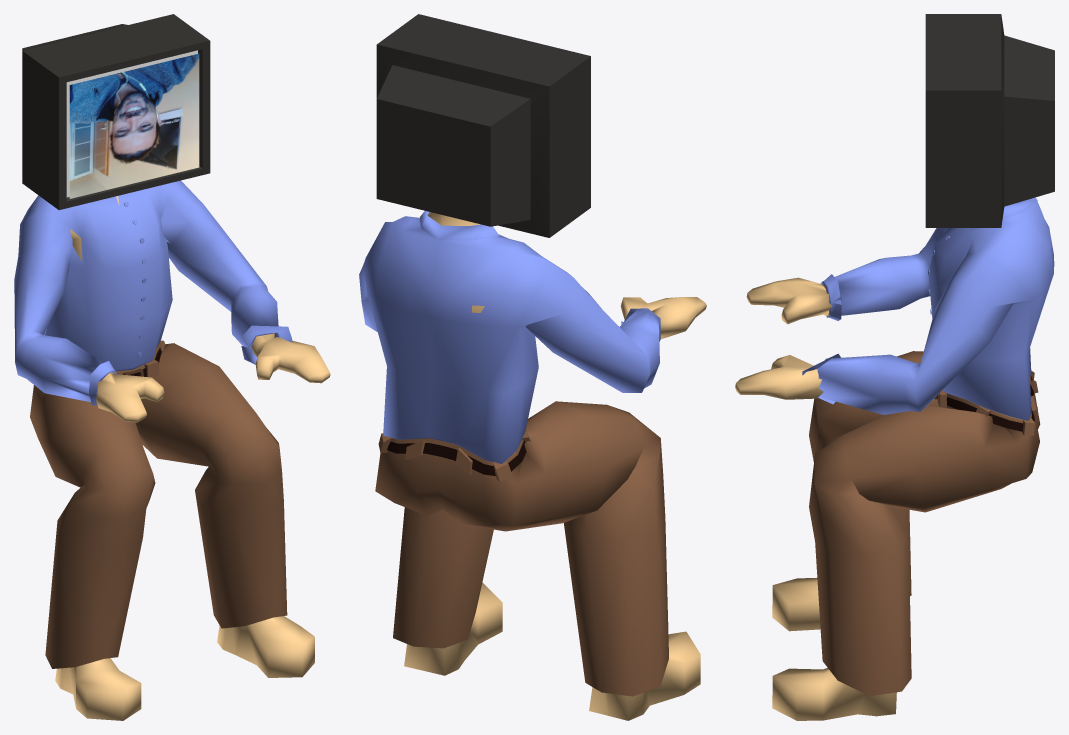
The model's file is visitor.glb.
The picture shows the model from 3 angles, left to right: view 1: azimuth 30°, elevation 25°; view 2: azimuth 150°, elevation 25°; view 3: azimuth 270°, elevation 25°; orthographic projection. The views are drawn at different scales.
Parts seen in each view (by area): view 1: pants_Cube.009, SM_TV_2.004, Plane.005; view 2: pants_Cube.009, SM_TV_2.004; view 3: pants_Cube.009, SM_TV_2.004.
Boxes of the visible parts, x1,y1,x2,y2 form: pants_Cube.009: (14, 180, 330, 720); SM_TV_2.004: (22, 14, 210, 209); Plane.005: (69, 53, 199, 198); pants_Cube.009: (359, 211, 706, 720); SM_TV_2.004: (376, 14, 590, 237); pants_Cube.009: (735, 197, 1054, 720); SM_TV_2.004: (925, 14, 1054, 227).
Size of the model in its own units: 43.93 by 97.9 by 46.49.
Materials: 9 (2 with a texture image).
